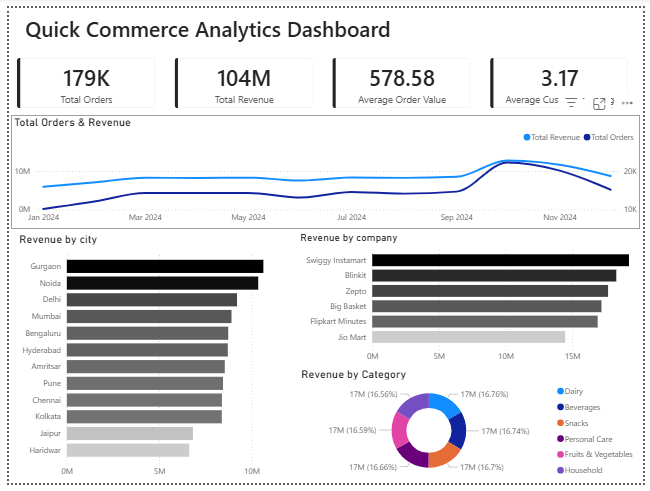

This screenshot's page, from the dashboard's own definition file:
{"tool":"powerbi","page":{"name":"Page 1","canvas":[960,720],"ordinal":0},"visuals":[{"type":"cardVisual","fields":{"Data":["All measures.total_orders","All measures.total_revenue","All measures.avg_order_value","All measures.avg_customer_rating"]},"box":[0,67.3,950.9,92.7],"z":0},{"type":"lineChart","title":"Total Orders & Revenue ","fields":{"Category":["Date_Table.Start of Month"],"Y":["All measures.total_revenue"],"Y2":["All measures.total_orders"]},"box":[3.6,163.6,952.7,172.7],"z":1000},{"type":"barChart","title":"Revenue by company","fields":{"Category":["qc_orders.company"],"Y":["All measures.total_revenue"]},"box":[436.7,340,520,208.3],"z":2000},{"type":"donutChart","title":"Revenue by Category","fields":{"Y":["All measures.total_revenue"],"Category":["qc_orders.product_category"]},"box":[438,546,522,174],"z":3000},{"type":"barChart","title":"Revenue by city","fields":{"Category":["qc_orders.city"],"Y":["All measures.total_revenue"]},"box":[10,340,430,380],"z":4000},{"type":"textbox","box":[20,8,594,56],"z":5000}]}

Visuals, with their boxes in screenshot pixels (x1, y1, x2, y2), scaled from the page's 960x720 canvas onto the 650x491 screenshot:
cardVisual - All measures.total_orders x All measures.total_revenue: (0,46,644,109)
"Total Orders & Revenue " lineChart: (2,112,647,229)
"Revenue by company" barChart: (296,232,648,374)
"Revenue by Category" donutChart: (297,372,649,490)
"Revenue by city" barChart: (7,232,298,490)
textbox: (14,5,416,44)
